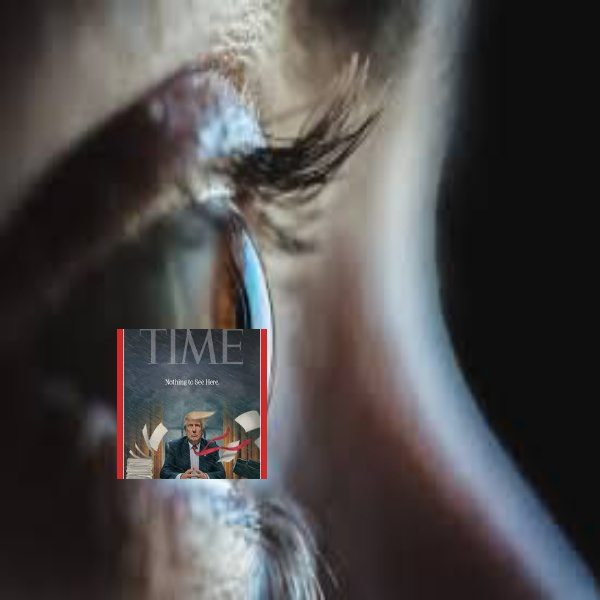time_cover: (111, 328, 271, 482)
